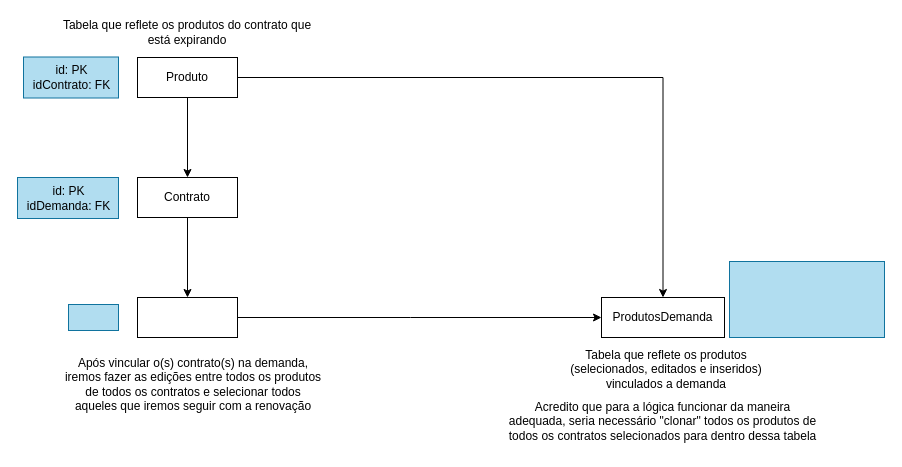
Image size: 902x467. Some labels were removed from this diagram. Each missing label, with the centre of its shape:
"Demanda" goes at (187,317).
"id: PK" goes at (93,317).
"id: PK idDemanda: FK idProdutoOriginal: FK ...CamposProdutoEditados" goes at (806,299).
